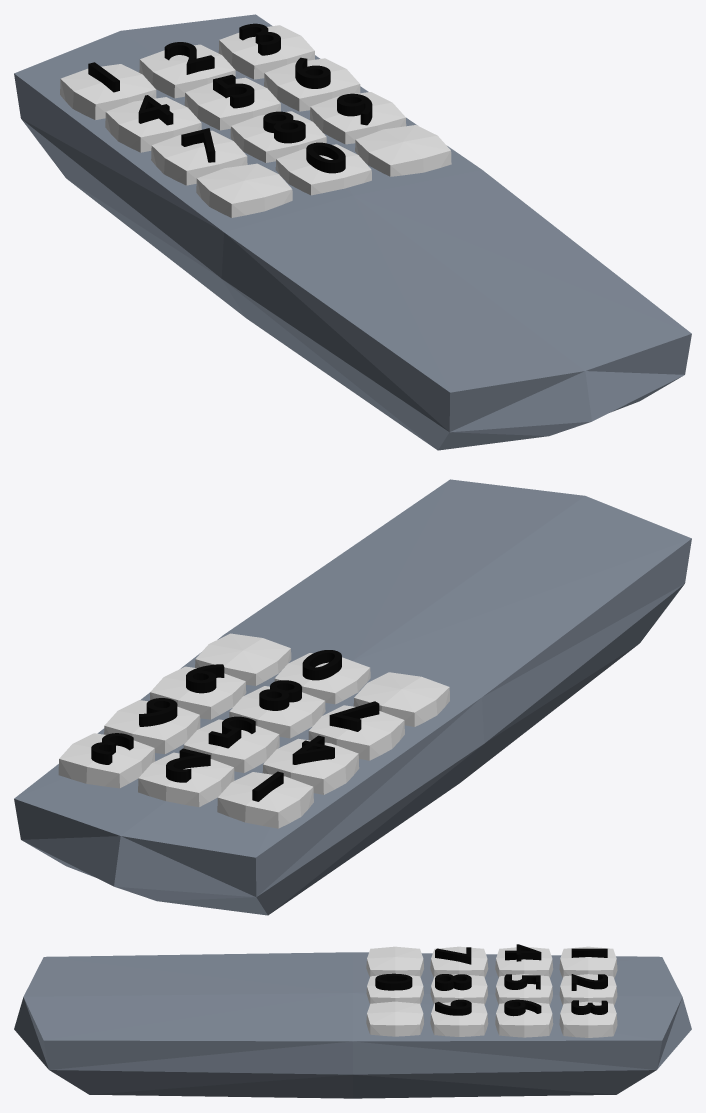
The model's file is remoteControl.dae.
The picture shows the model from 3 angles, top to bottom: view 1: azimuth 30°, elevation 25°; view 2: azimuth 150°, elevation 25°; view 3: azimuth 270°, elevation 25°; orthographic projection. The views are drawn at different scales.
Visible parts, largest first — view 1: 0; view 2: 0; view 3: 0.
Boxes of the visible parts, x1,y1,x2,y2 form: 0: (14, 14, 691, 450); 0: (14, 479, 691, 915); 0: (14, 944, 691, 1098).
Bounding box in the file's own units: 2.32 × 7.31 × 1.04.
